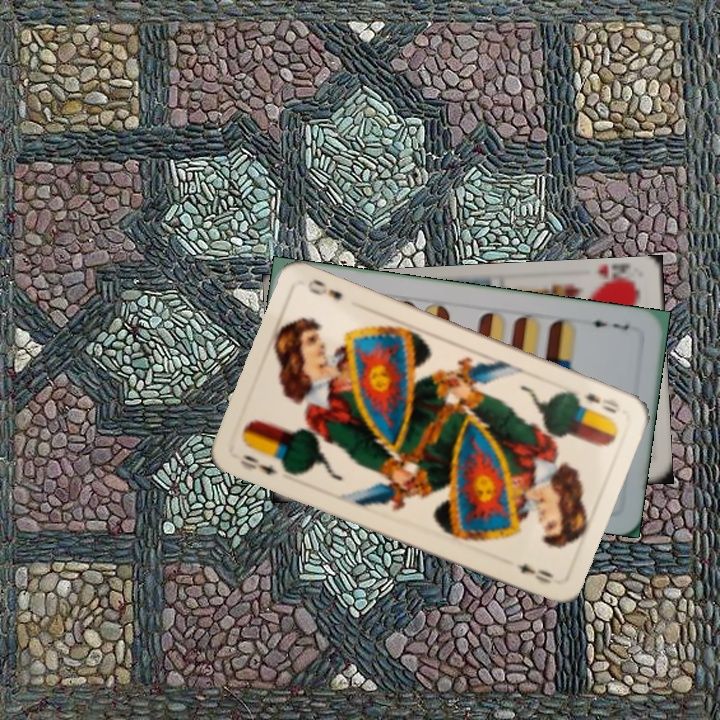E7: (583, 315, 632, 333)
EO: (236, 450, 281, 478), (579, 389, 623, 416)
HK: (593, 263, 637, 292)
